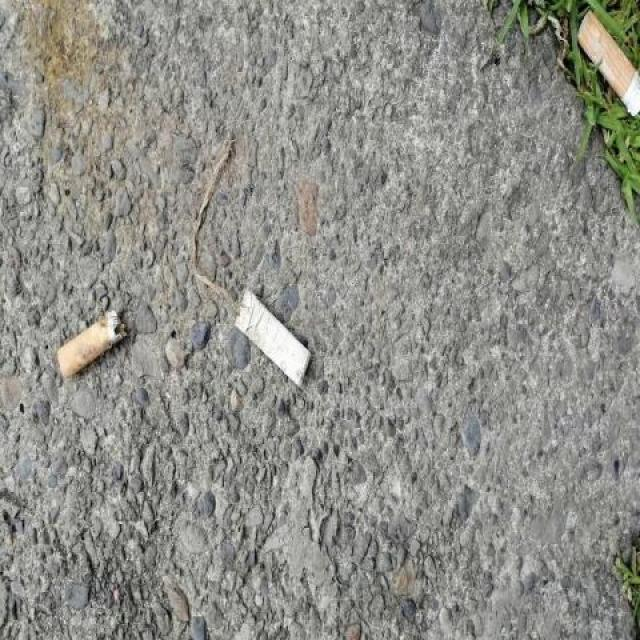non-organic waste: (229, 283, 315, 392), (572, 5, 640, 119), (51, 307, 133, 384)
